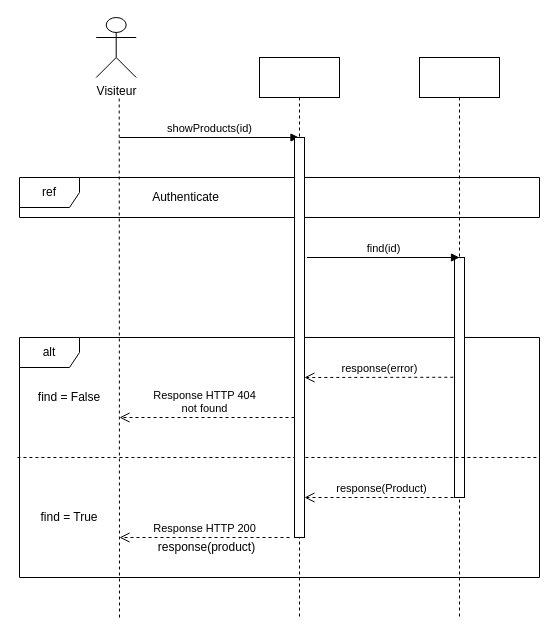
Some shapes in this 559 by 636 pixel diagram are drawn without their labels. Here are the shapes that lost their labels. From the top down, the box of each, then its label:
(258, 56, 340, 618): :API
(418, 56, 500, 618): :Product
